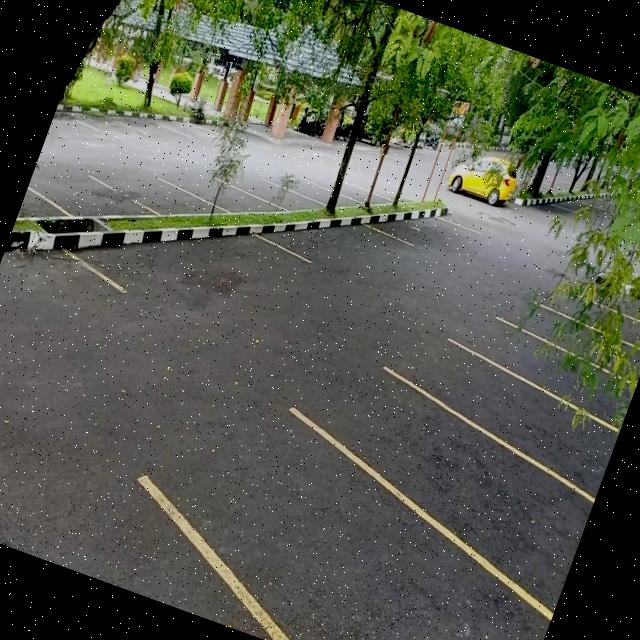empty: (251, 472, 571, 640), (362, 418, 600, 602), (121, 204, 287, 340), (455, 368, 624, 492), (292, 208, 406, 291), (23, 162, 126, 232), (382, 207, 476, 268), (118, 168, 204, 228), (202, 182, 274, 230), (250, 176, 314, 219)
